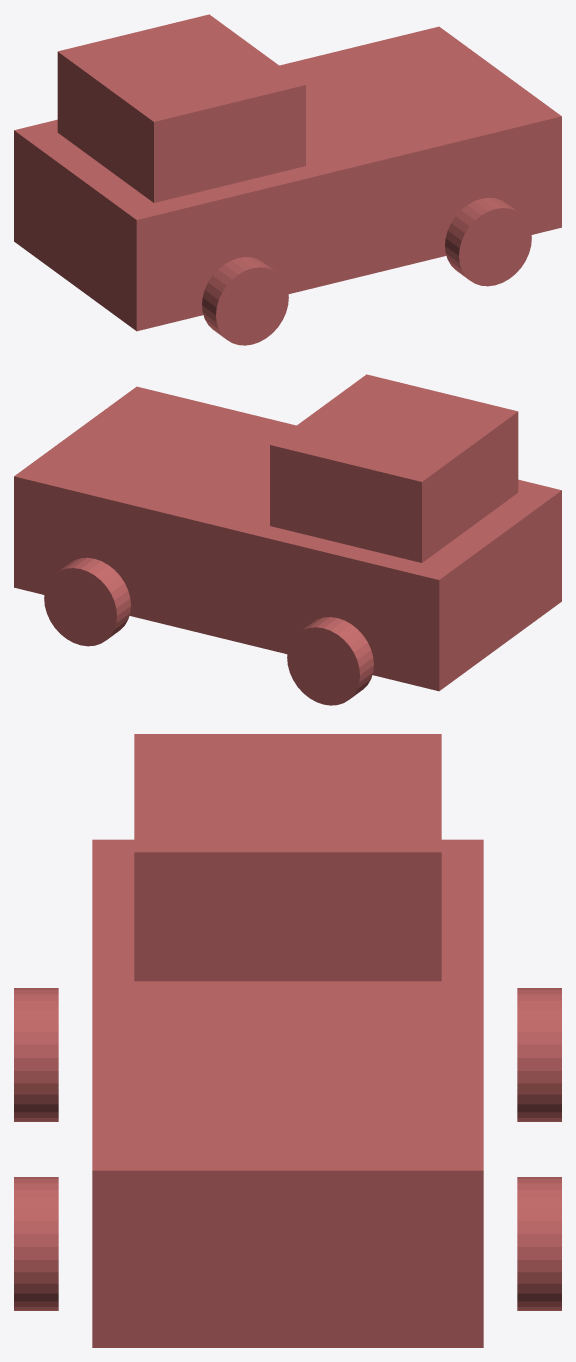
File: model_pro_ad7b2214.glb
3 views of the same model, one above another, from view 1: azimuth 30°, elevation 25°; view 2: azimuth 150°, elevation 25°; view 3: azimuth 270°, elevation 25° (orthographic). The views are drawn at different scales.
Visible parts, largest first — view 1: world; view 2: world; view 3: world.
Part boxes in pixels (x1,y1,x2,y2): world: (14, 14, 561, 345); world: (14, 374, 561, 705); world: (14, 734, 561, 1347).
Bounding box in the file's own units: 1.4 × 0.66 × 0.98.
